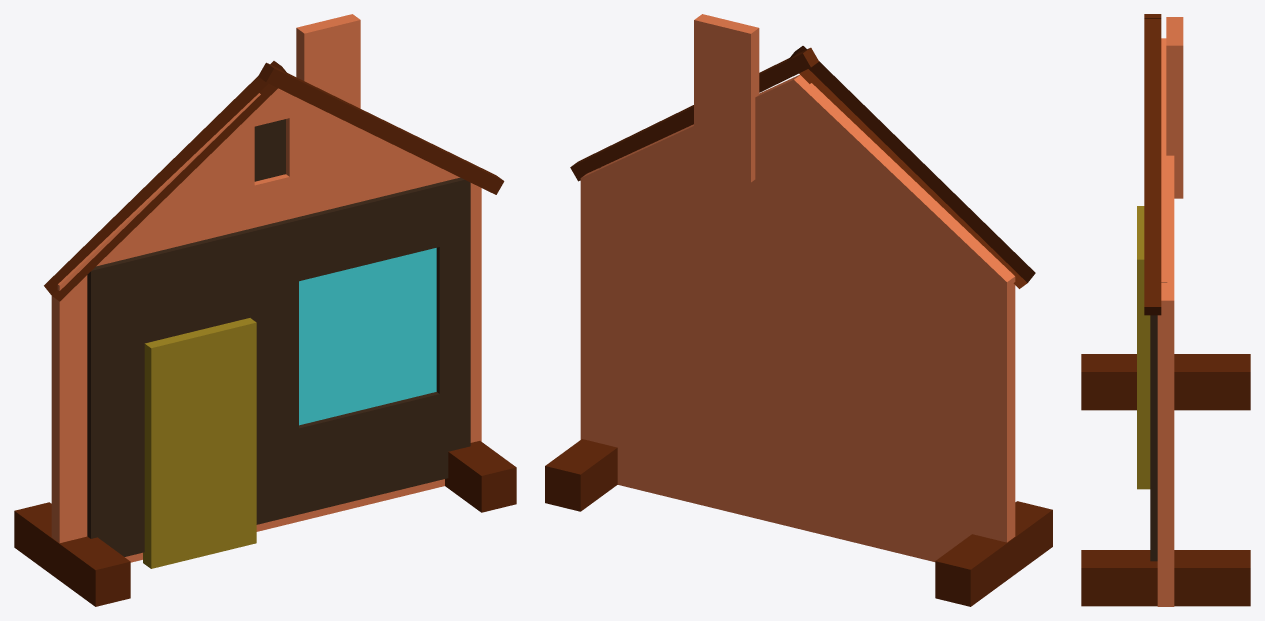
Rendered from black_a_n.glb.
3 views of the same model, side by side, from view 1: azimuth 30°, elevation 25°; view 2: azimuth 150°, elevation 25°; view 3: azimuth 270°, elevation 25° (orthographic). The views are drawn at different scales.
Parts seen in each view (by area): view 1: Cube; view 2: Cube; view 3: Cube.
Part boxes in pixels (bbox=[...]): Cube: bbox=[14, 14, 516, 606]; Cube: bbox=[545, 14, 1052, 606]; Cube: bbox=[1081, 14, 1250, 606].
Bounding box in the file's own units: 6.44 × 6.58 × 2.
